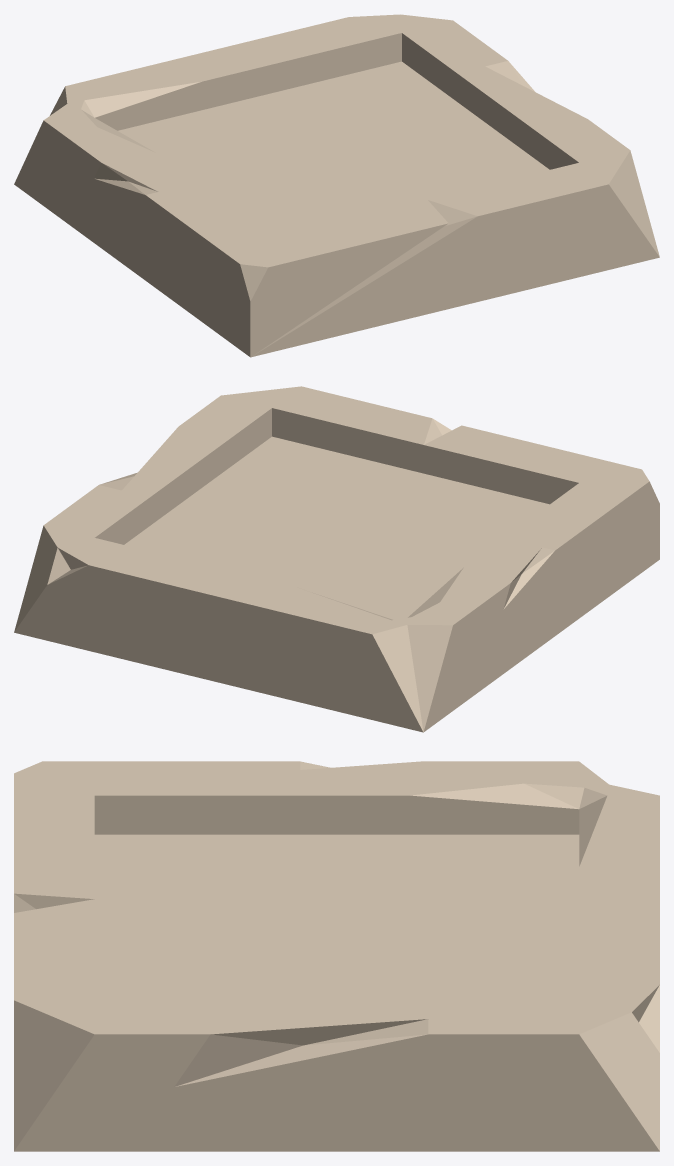
The model's file is Ceiling_001.fbx.
3 views of the same model, one above another, from view 1: azimuth 30°, elevation 25°; view 2: azimuth 150°, elevation 25°; view 3: azimuth 270°, elevation 25° (orthographic). The views are drawn at different scales.
Visible parts, largest first — view 1: Ceiling_002; view 2: Ceiling_002; view 3: Ceiling_002.
Part boxes in pixels (x1=…): Ceiling_002: x1=14, y1=14, x2=659, y2=357; Ceiling_002: x1=14, y1=386, x2=659, y2=732; Ceiling_002: x1=14, y1=761, x2=659, y2=1151.
Size of the model in its own units: 3 by 0.6 by 3.
